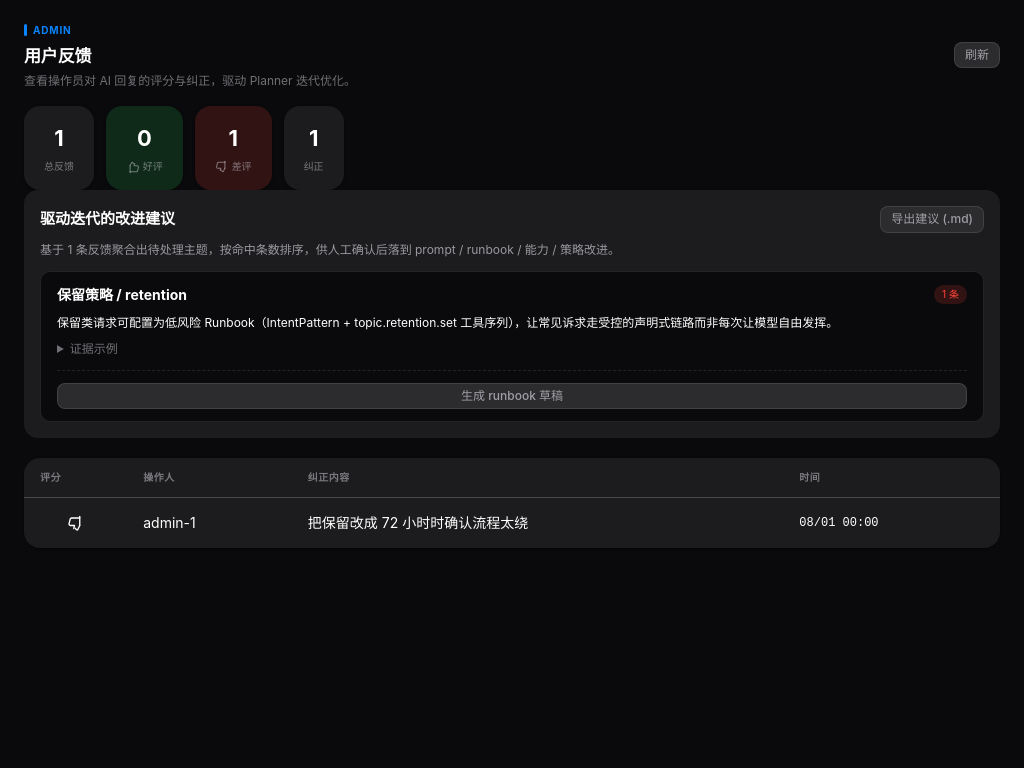
FeedbackView › generates runbook draft and shows inferred fields with confirm button
This screenshot has width=1024, height=768.
Click the button with test id "feedback-draft-runbook": (512, 396) [57,383,967,409]
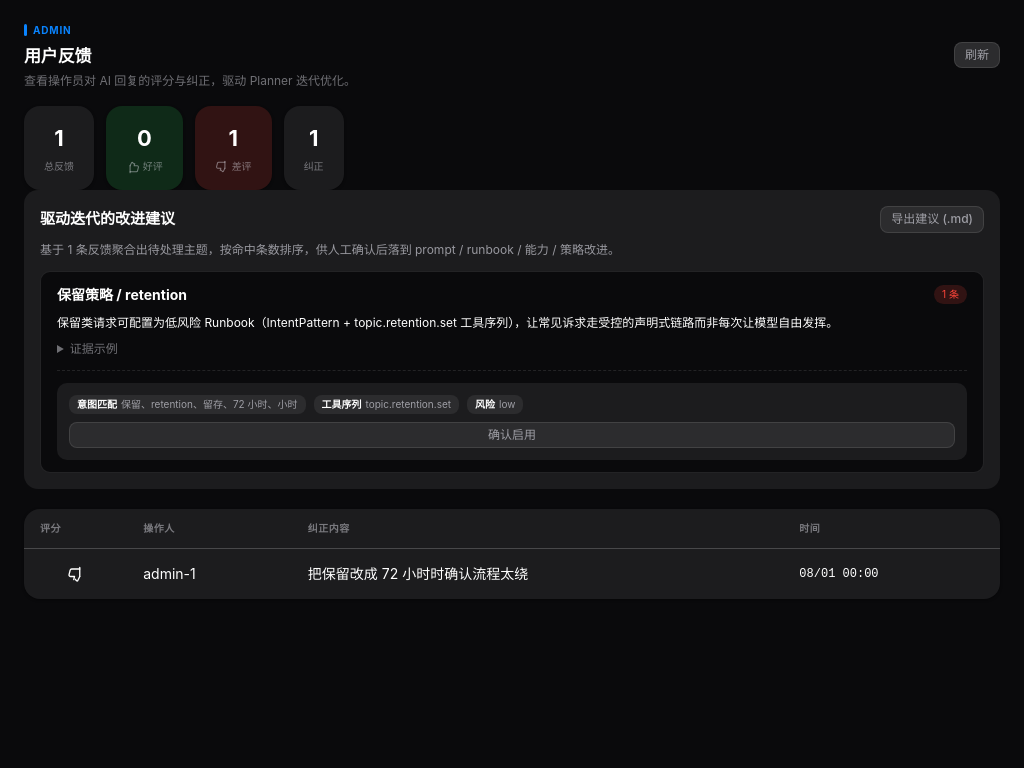
Now the element with test id "feedback-draft-preview" is shown, box [57,383,967,460]
Now the element with test id "feedback-draft-preview" shows "topic.retention.set", box [366,398,451,410]
Now the button with test id "feedback-draft-activate" reads "确认启用", box [69,422,955,448]
